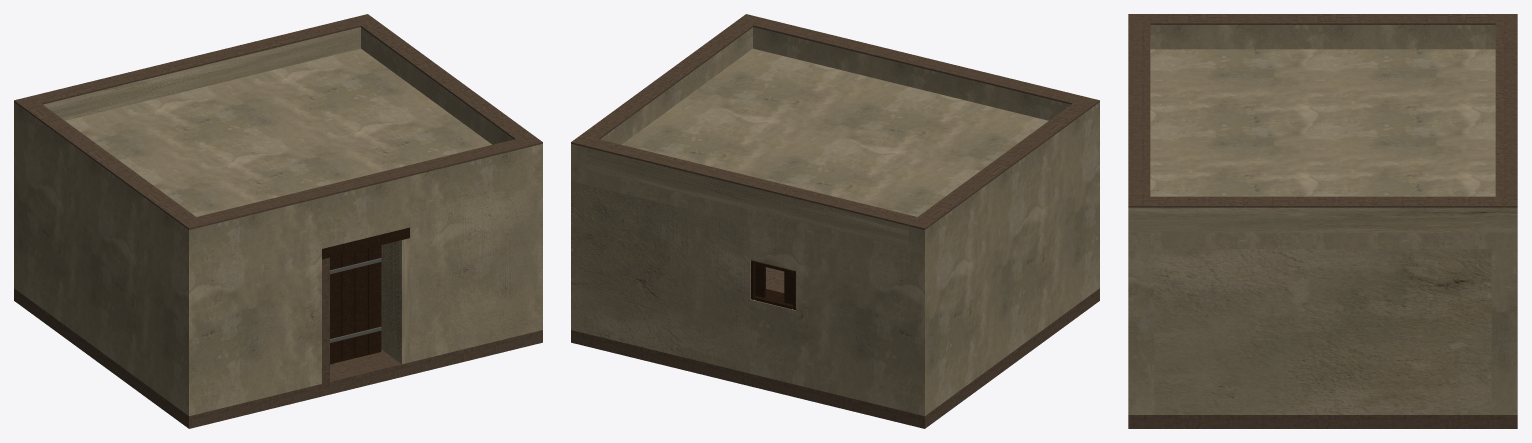
File: d_home_7x6.glb
3 renders of one model, left to right at view 1: azimuth 30°, elevation 25°; view 2: azimuth 150°, elevation 25°; view 3: azimuth 270°, elevation 25°, orthographic. The views are drawn at different scales.
Parts seen in each view (by area): view 1: front adobe pier, model floor, front adobe pier-colonly.001, end parapet-colonly.001, entry reveal-colonly.001, side parapet-colonly.001, Door entry plank.003, Door entry plank.004, Door entry plank.002, Door entry plank.001, structural timber lintel; view 2: front adobe pier, rear adobe pier-colonly.001, model floor, end parapet-colonly.001, structural timber lintel, side parapet-colonly.001; view 3: front adobe pier, side adobe wall-colonly.001, model floor, side parapet-colonly.001, front adobe pier-colonly.001, rear adobe pier-colonly.001.
Boxes of the visible parts, left/top/right/bottom form: front adobe pier: left=14, top=28, right=542, bottom=416; model floor: left=14, top=14, right=542, bottom=428; front adobe pier-colonly.001: left=410, top=181, right=542, bottom=361; end parapet-colonly.001: left=43, top=27, right=360, bottom=120; entry reveal-colonly.001: left=381, top=238, right=409, bottom=364; side parapet-colonly.001: left=361, top=27, right=542, bottom=167; Door entry plank.003: left=354, top=248, right=367, bottom=357; Door entry plank.004: left=368, top=245, right=381, bottom=354; Door entry plank.002: left=341, top=251, right=354, bottom=361; Door entry plank.001: left=330, top=255, right=341, bottom=364; structural timber lintel: left=322, top=227, right=409, bottom=259; front adobe pier: left=571, top=27, right=1099, bottom=416; rear adobe pier-colonly.001: left=571, top=181, right=750, bottom=373; model floor: left=571, top=14, right=1099, bottom=428; end parapet-colonly.001: left=587, top=148, right=908, bottom=248; structural timber lintel: left=751, top=260, right=795, bottom=310; side parapet-colonly.001: left=660, top=27, right=752, bottom=104; front adobe pier: left=1128, top=25, right=1517, bottom=414; side adobe wall-colonly.001: left=1154, top=249, right=1491, bottom=414; model floor: left=1128, top=14, right=1517, bottom=428; side parapet-colonly.001: left=1128, top=207, right=1517, bottom=232; front adobe pier-colonly.001: left=1128, top=249, right=1154, bottom=414; rear adobe pier-colonly.001: left=1491, top=249, right=1517, bottom=414.
Size of what is drawn, in the model's own units: 7 by 3.79 by 6.
7 materials, 4 textured.
